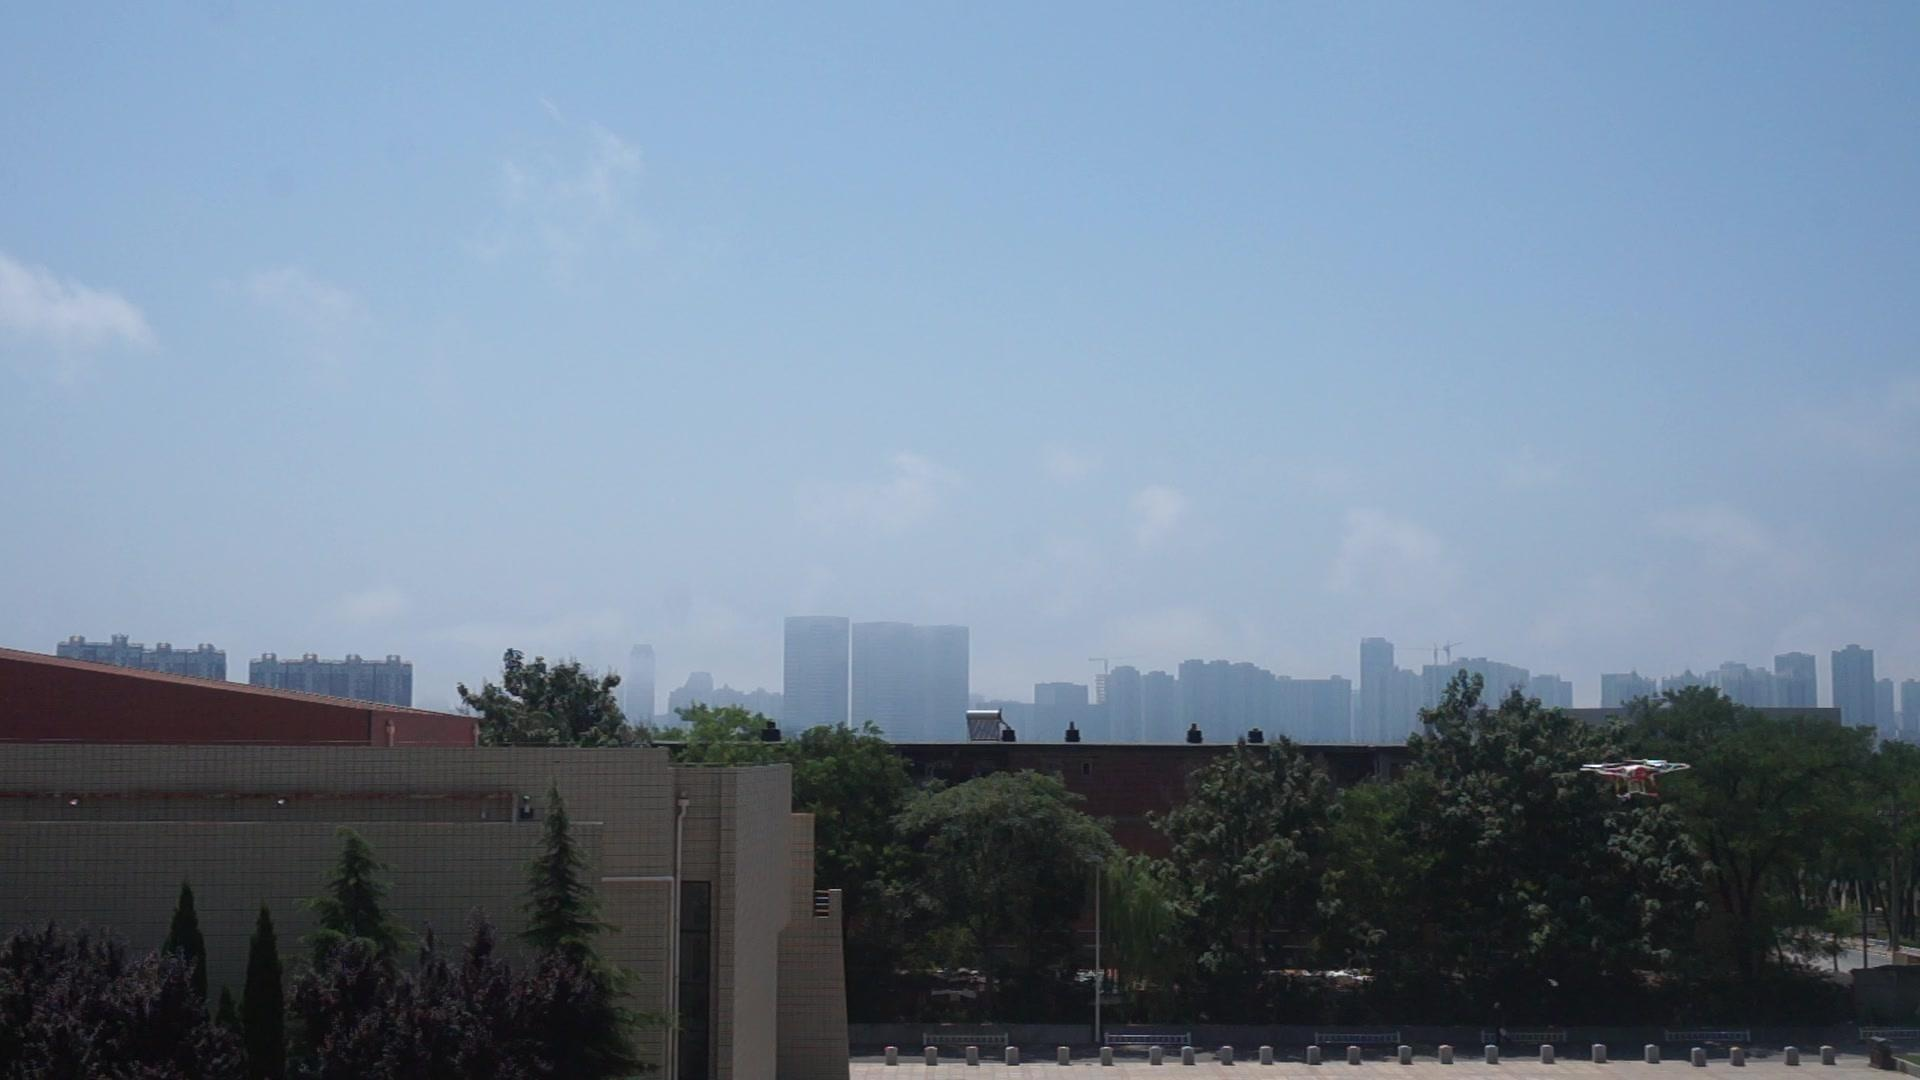UAV: (1580, 760, 1692, 799)
